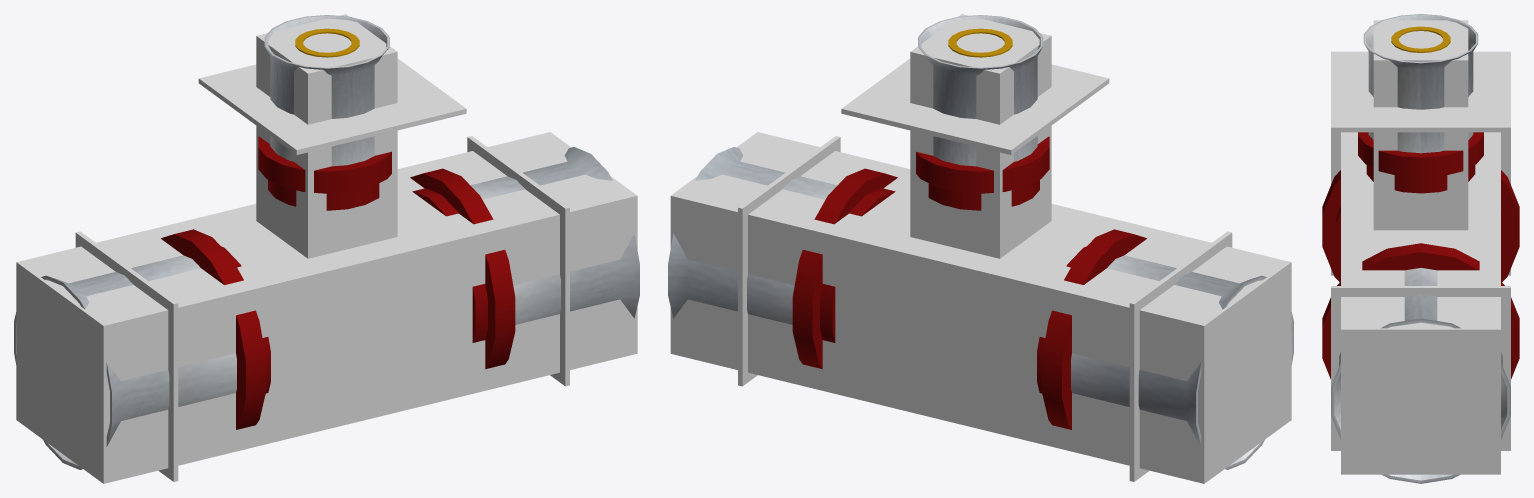
Rendered from mp_tronik_32х20х32.FBX.
The picture shows the model from 3 angles, left to right: view 1: azimuth 30°, elevation 25°; view 2: azimuth 150°, elevation 25°; view 3: azimuth 270°, elevation 25°; orthographic projection. The views are drawn at different scales.
Parts seen in each view (by area): view 1: tronik_32х20х32_COL_, tronik_32х20х32_, Box002_est_001, Box002_est_, Box001_est_; view 2: tronik_32х20х32_COL_, tronik_32х20х32_, Box002_est_001, Box002_est_, Box001_est_; view 3: tronik_32х20х32_COL_, tronik_32х20х32_, Box002_est_001, Box001_est_, Box002_est_.
Part boxes in pixels (x1,y1,x2,y2): tronik_32х20х32_COL_: (16,14,637,483); tronik_32х20х32_: (14,15,639,469); Box002_est_001: (198,58,466,154); Box002_est_: (75,231,178,481); Box001_est_: (467,136,569,386); tronik_32х20х32_COL_: (670,14,1291,483); tronik_32х20х32_: (668,15,1293,469); Box002_est_001: (841,58,1109,154); Box002_est_: (1129,231,1232,481); Box001_est_: (738,136,840,386); tronik_32х20х32_COL_: (1341,20,1500,474); tronik_32х20х32_: (1322,14,1519,483); Box002_est_001: (1331,51,1510,132); Box001_est_: (1331,286,1510,450); Box002_est_: (1331,132,1510,275).
Size of the model in its own units: 0.1132 by 0.0739 by 0.0395.
3 materials, 1 textured.
